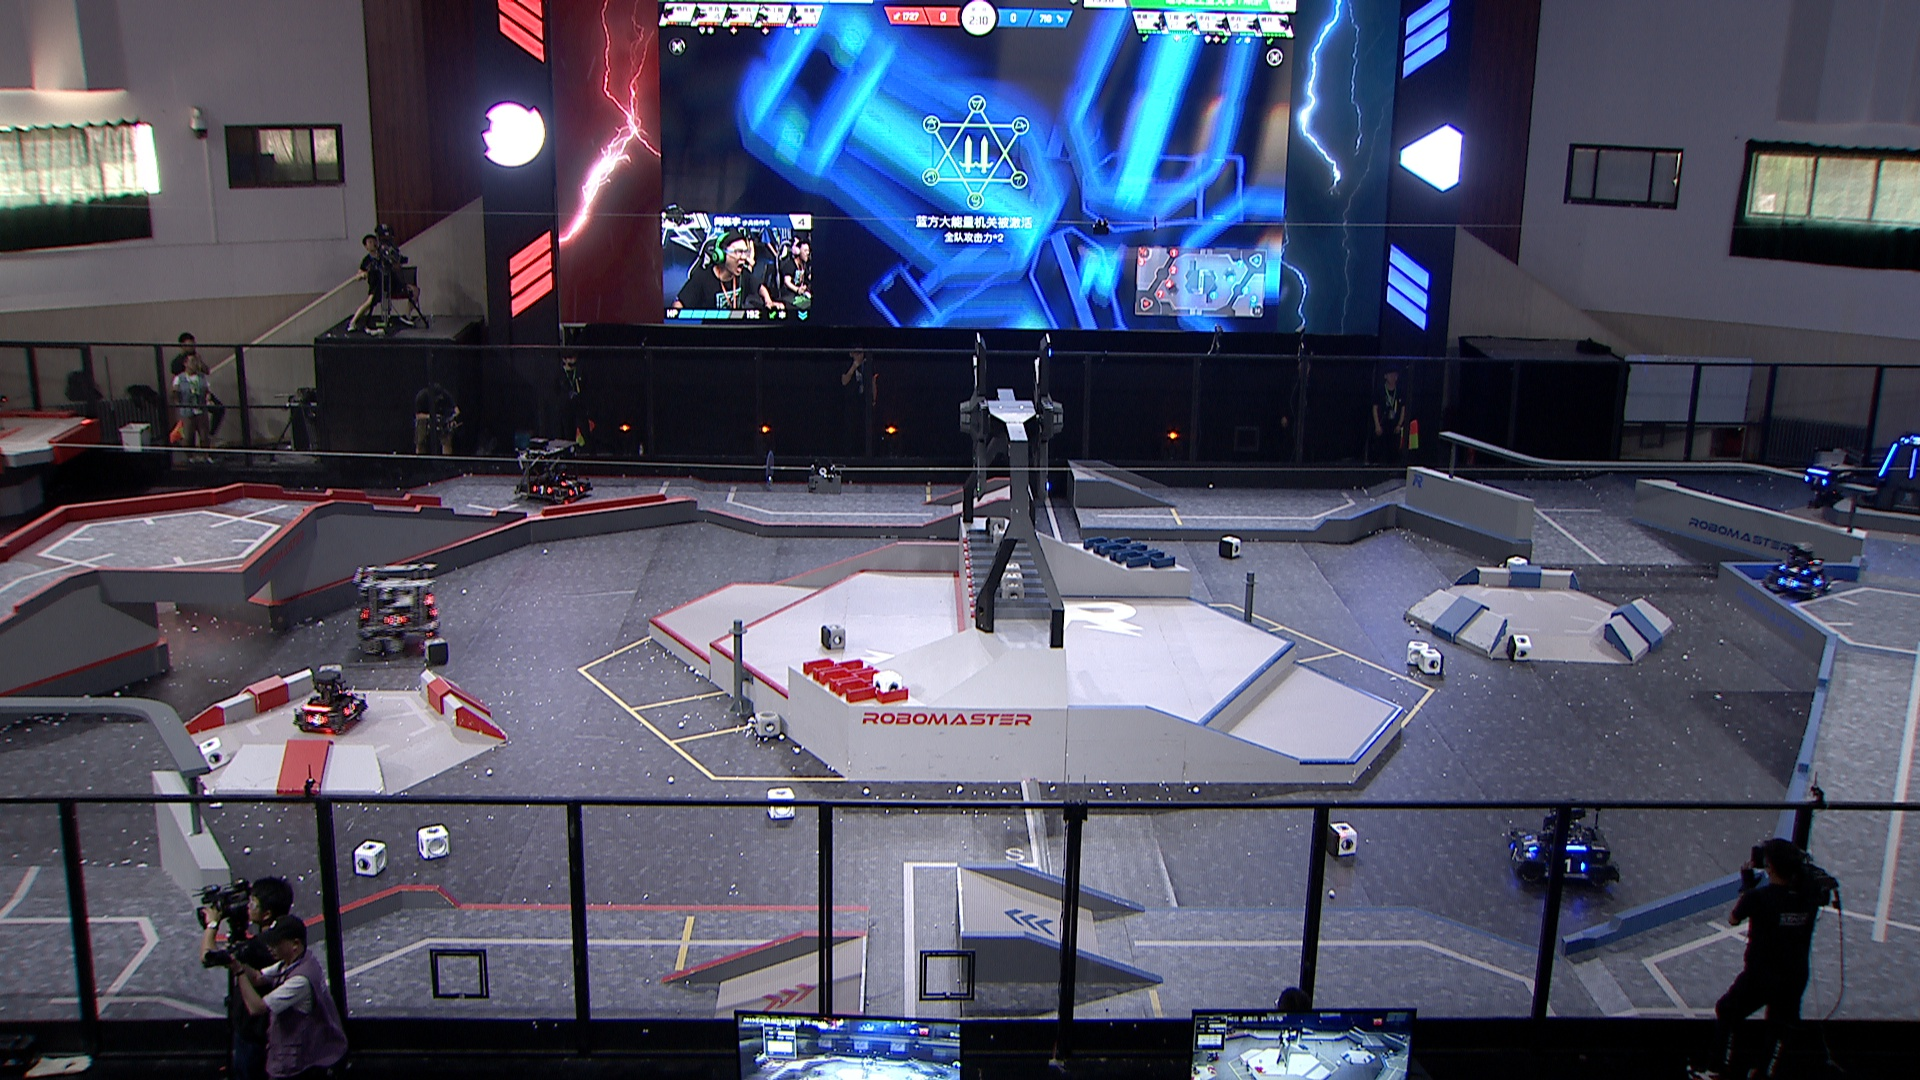armor: (1876, 440, 1899, 479), (1563, 856, 1588, 876), (1522, 831, 1542, 855), (1506, 843, 1524, 866), (1804, 473, 1830, 489), (1780, 564, 1813, 576), (1908, 447, 1920, 479), (1778, 575, 1801, 589), (384, 615, 406, 629), (306, 713, 328, 727), (340, 700, 357, 717), (531, 484, 553, 496), (566, 487, 585, 498), (1902, 436, 1920, 447), (1813, 574, 1828, 585), (560, 479, 578, 488)
base: (1851, 436, 1920, 520)
car: (1505, 806, 1622, 893), (356, 564, 442, 651), (513, 434, 593, 505), (291, 669, 367, 736), (1764, 542, 1833, 600)
watcher: (1803, 462, 1855, 512)
